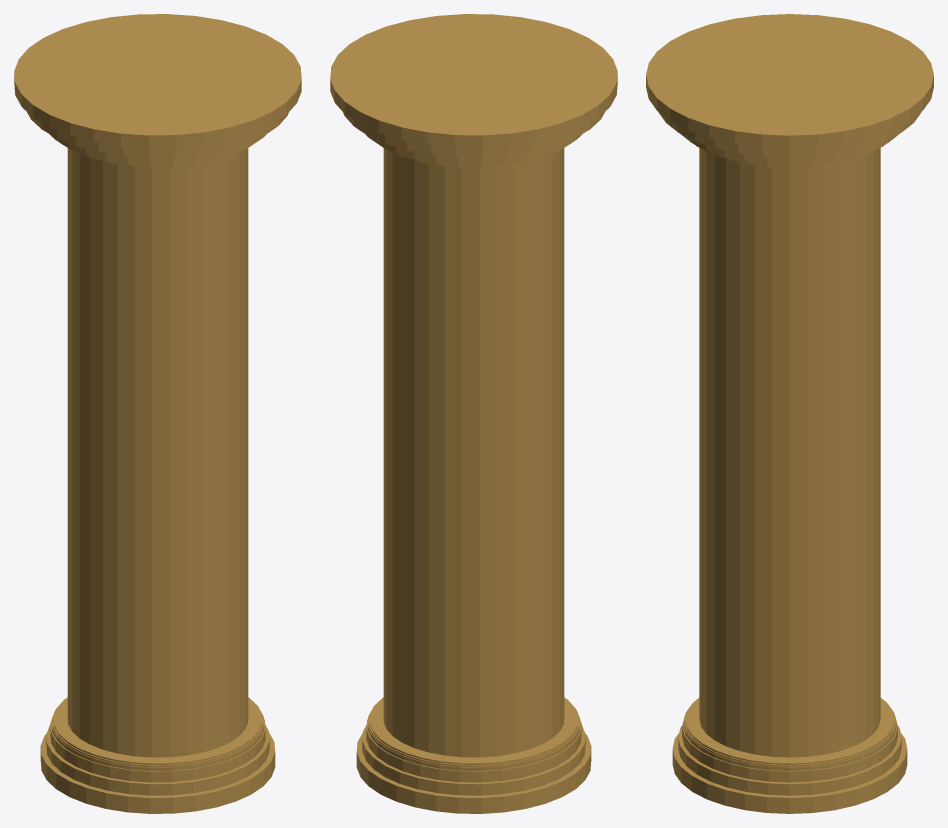
File: pillar.fbx
The picture shows the model from 3 angles, left to right: view 1: azimuth 30°, elevation 25°; view 2: azimuth 150°, elevation 25°; view 3: azimuth 270°, elevation 25°; orthographic projection.
Visible parts, largest first — view 1: LeftPillars; view 2: LeftPillars; view 3: LeftPillars.
Part boxes in pixels (x1=…): LeftPillars: x1=14, y1=14, x2=301, y2=813; LeftPillars: x1=330, y1=14, x2=617, y2=813; LeftPillars: x1=646, y1=14, x2=933, y2=813.
Size of the model in its own units: 598 by 1580 by 598.
